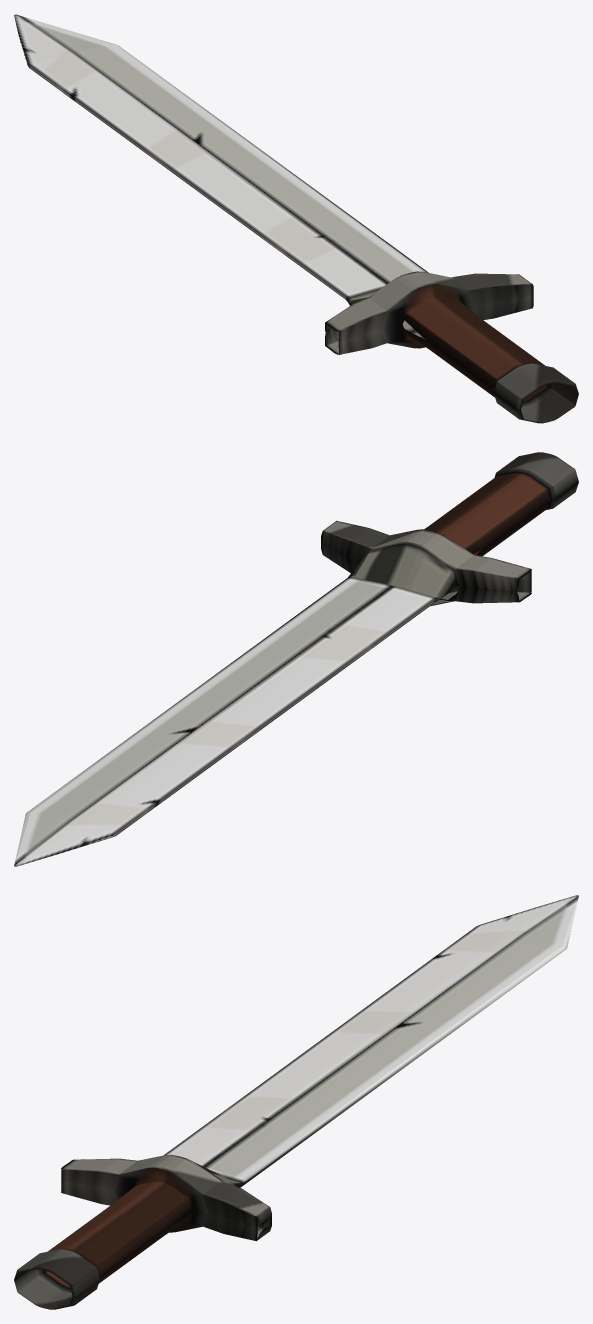
The model's file is onesword.obj.
The picture shows the model from 3 angles, top to bottom: view 1: azimuth 30°, elevation 25°; view 2: azimuth 150°, elevation 25°; view 3: azimuth 330°, elevation 25°; orthographic projection.
Visible parts, largest first — view 1: Cube_Cube.001; view 2: Cube_Cube.001; view 3: Cube_Cube.001.
Boxes of the visible parts, bbox=[...] form: Cube_Cube.001: bbox=[14, 14, 578, 423]; Cube_Cube.001: bbox=[14, 452, 578, 866]; Cube_Cube.001: bbox=[14, 895, 578, 1309].
Bounding box in the file's own units: 3.83 × 1.1 × 17.37.
